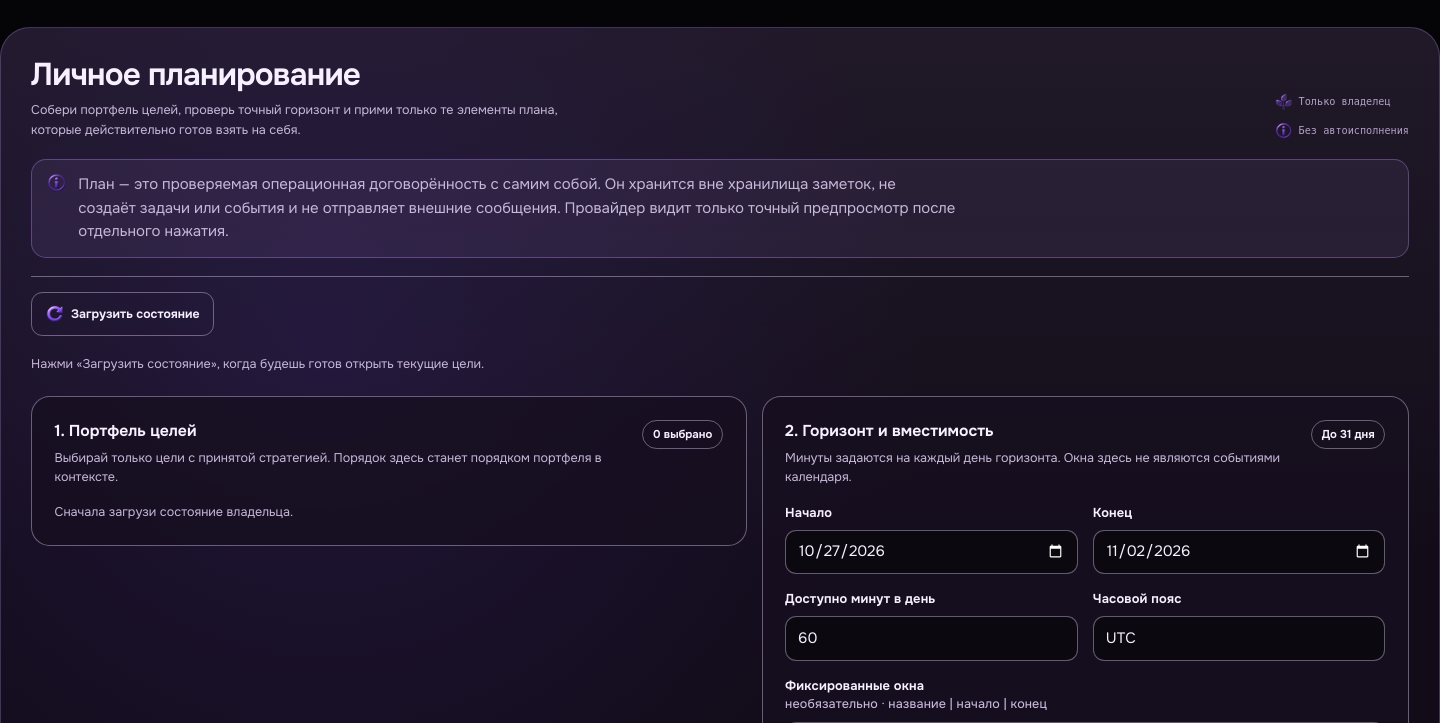
it: Русская поверхность личного планирования › показывает предпросмотр и только отдельной кнопкой запрашивает предложение
Click the button "Загрузить состояние". click: (123, 314)
box: [31, 292, 214, 336]
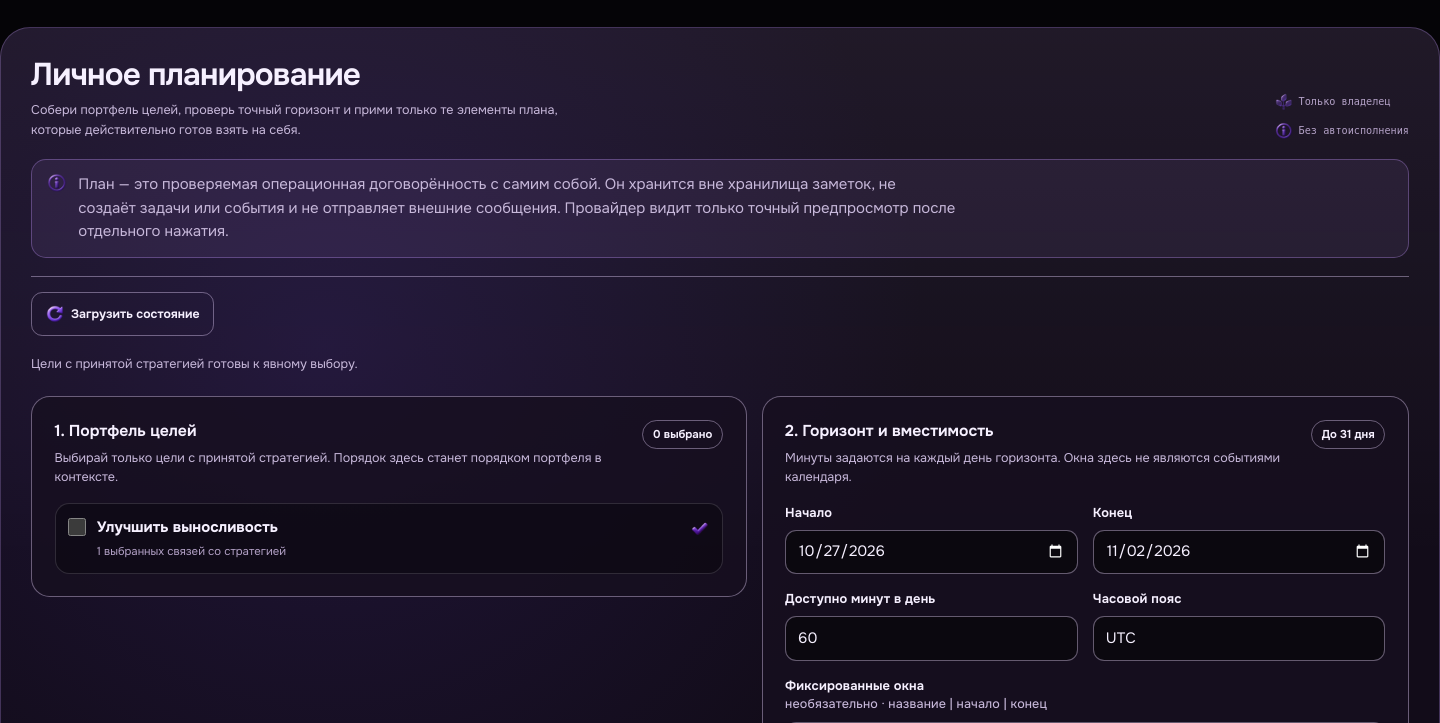
Click the checkbox labelled "Улучшить выносливость 1 выбранных связей со стратегией". click: (77, 527)
box: [68, 518, 86, 536]
(page scrolled)
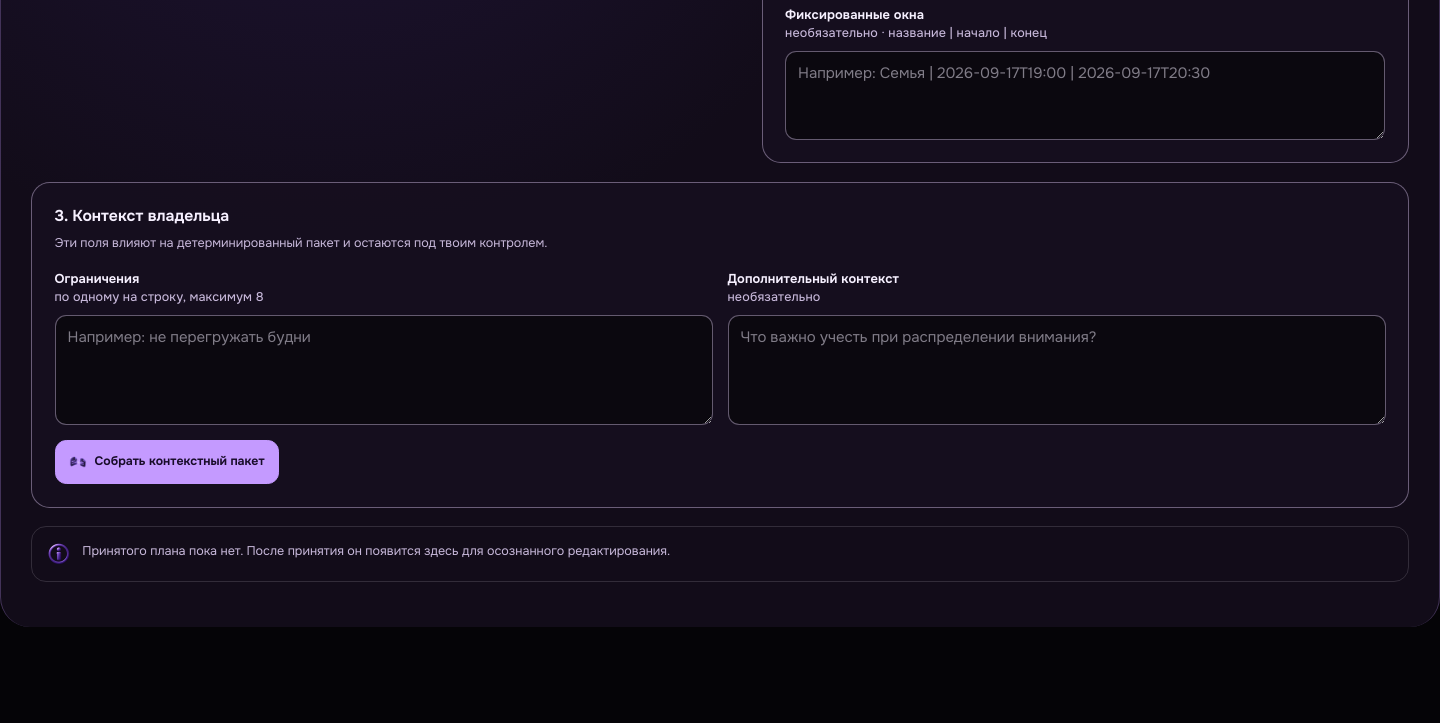
Click the button "Собрать контекстный пакет". click: (167, 462)
box: [54, 440, 279, 484]
(page scrolled)
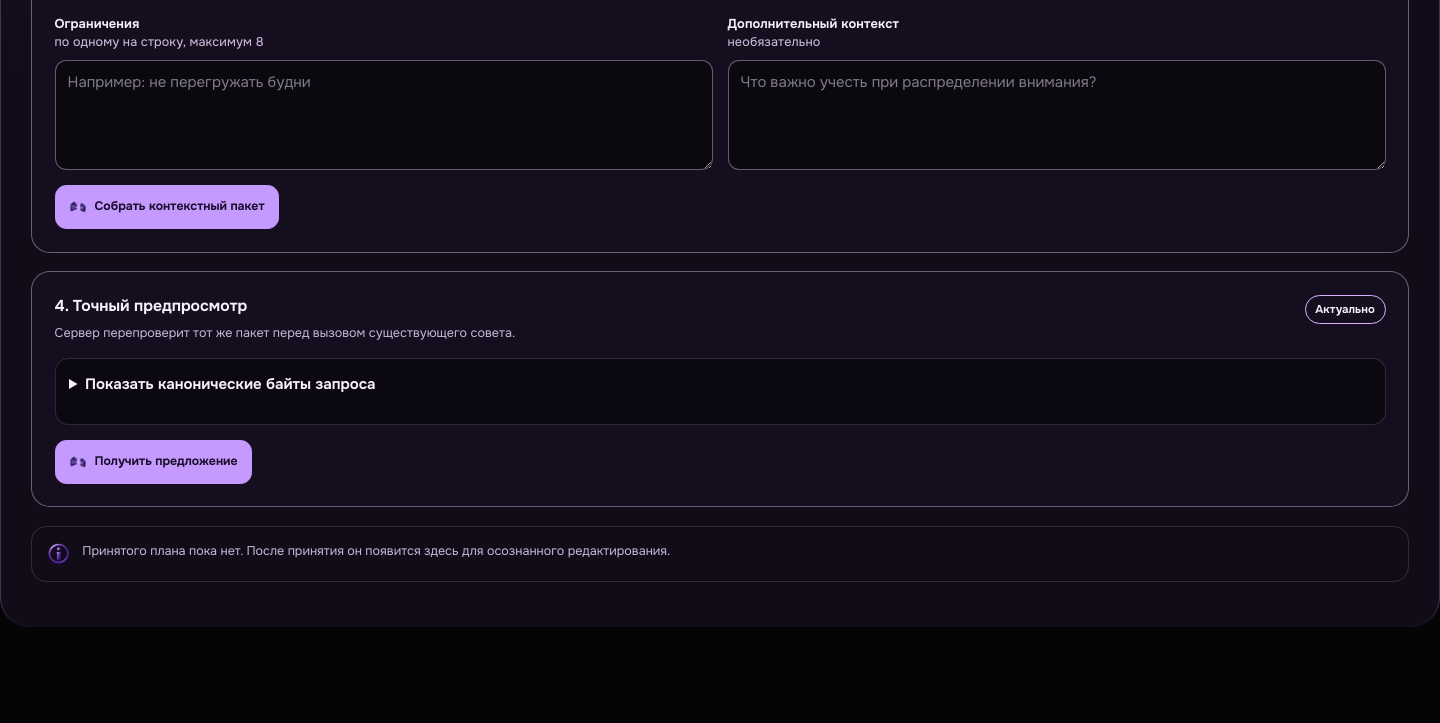
Expected: the text "Точный предпросмотр" is shown, [54, 296, 247, 316]
Click the button "Получить предложение". click: (153, 462)
box: [54, 440, 252, 484]
(page scrolled)
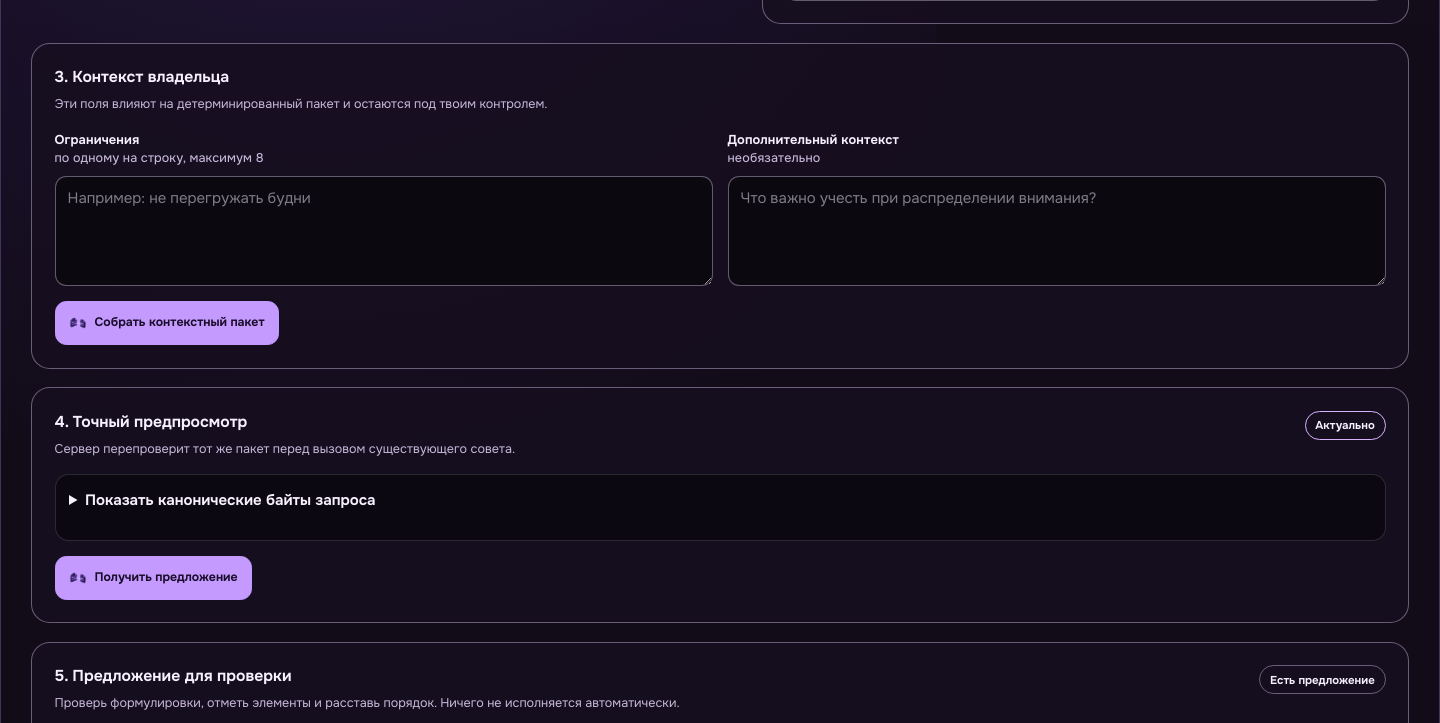
Now the text "Предложение для проверки" is shown, box [54, 666, 292, 686]
Now the text "Ничего не исполняется автоматически" is shown, box [54, 695, 680, 711]
